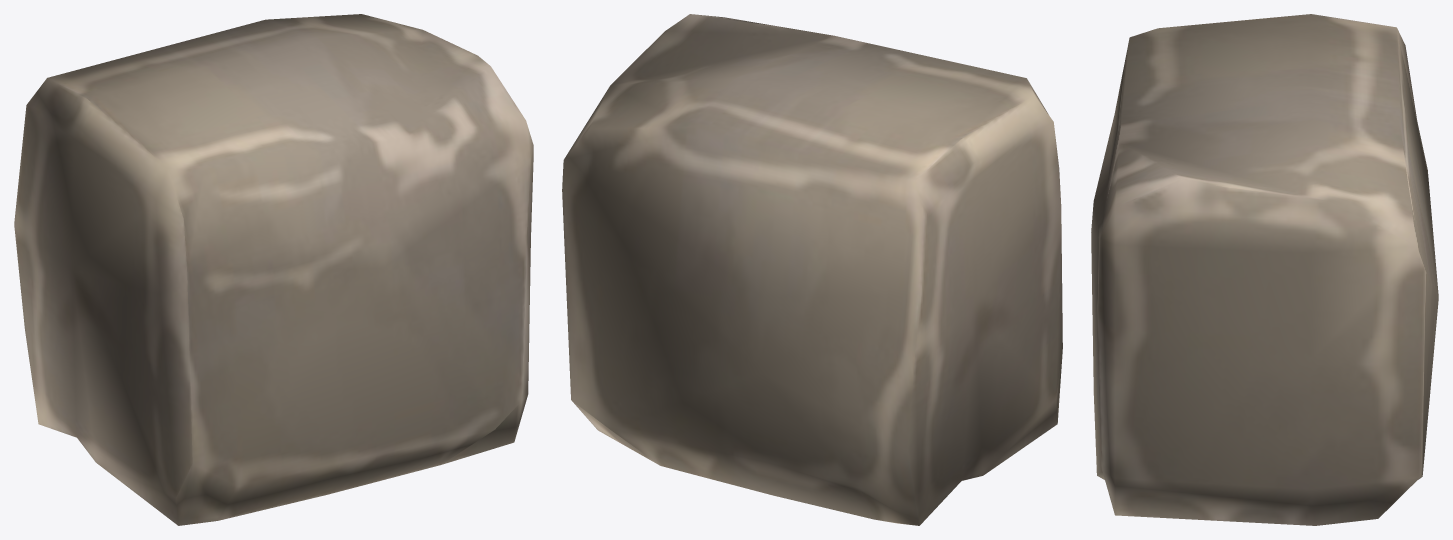
File: Prop_Brick4.gltf
The picture shows the model from 3 angles, left to right: view 1: azimuth 30°, elevation 25°; view 2: azimuth 150°, elevation 25°; view 3: azimuth 270°, elevation 25°; orthographic projection.
Visible parts, largest first — view 1: Prop_Brick4; view 2: Prop_Brick4; view 3: Prop_Brick4.
Boxes of the visible parts, x1,y1,x2,y2 form: Prop_Brick4: [14, 14, 533, 525]; Prop_Brick4: [562, 14, 1062, 525]; Prop_Brick4: [1091, 14, 1438, 525].
Bounding box in the file's own units: 0.2567 × 0.2497 × 0.2156.
Materials: 1 (1 with a texture image).
